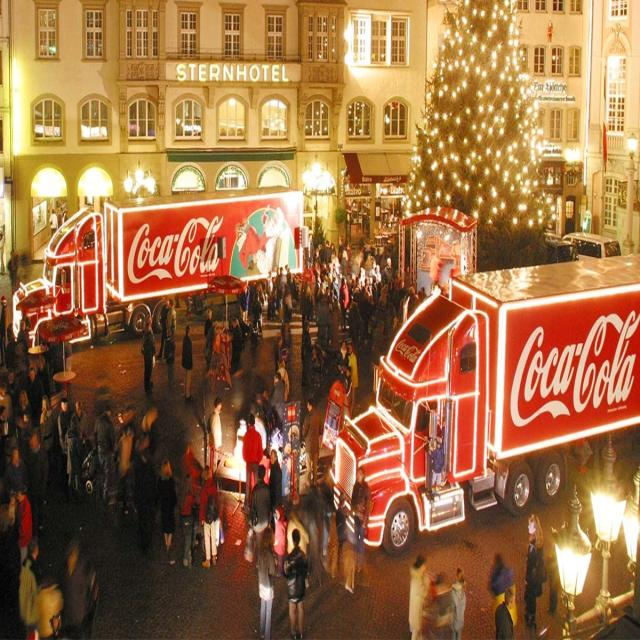coca cola: (512, 317, 640, 416), (125, 213, 223, 283)
